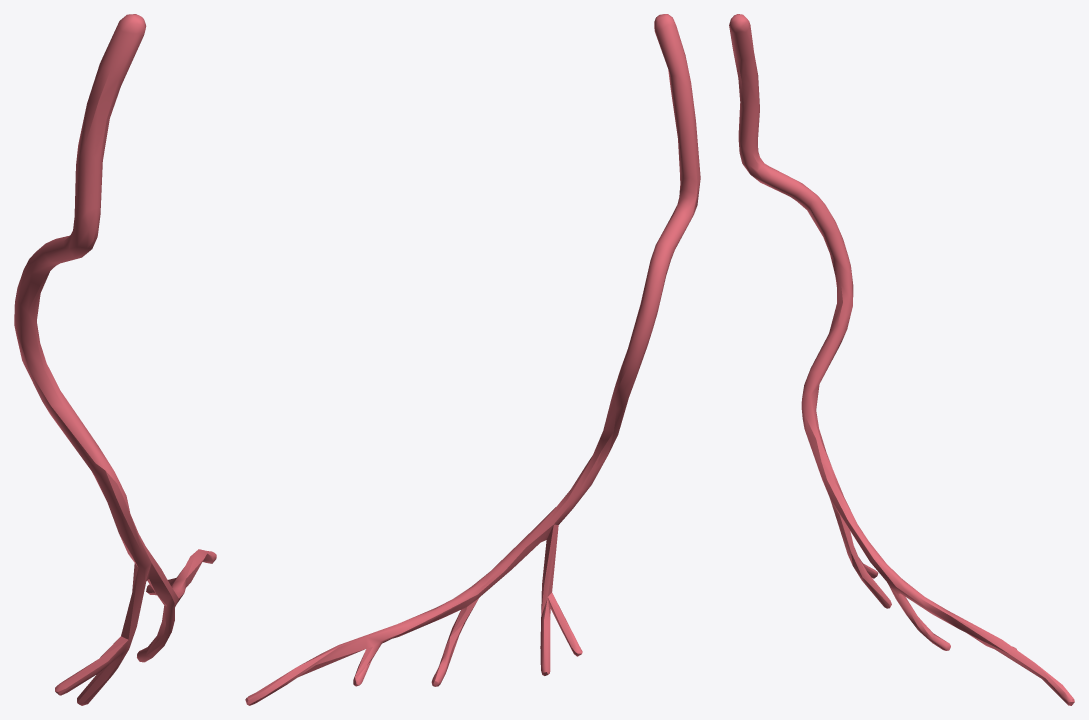
Rendered from fma14818_fj3410.glb.
3 views of the same model, side by side, from view 1: azimuth 30°, elevation 25°; view 2: azimuth 150°, elevation 25°; view 3: azimuth 270°, elevation 25° (orthographic). The views are drawn at different scales.
Visible parts, largest first — view 1: FMA14818_FJ3410; view 2: FMA14818_FJ3410; view 3: FMA14818_FJ3410.
Part boxes in pixels (left/top/right/bottom): FMA14818_FJ3410: left=14, top=14, right=216, bottom=705; FMA14818_FJ3410: left=245, top=14, right=700, bottom=705; FMA14818_FJ3410: left=729, top=14, right=1074, bottom=705.
Size of the model in its own units: 0.0322 by 0.0671 by 0.0362.
